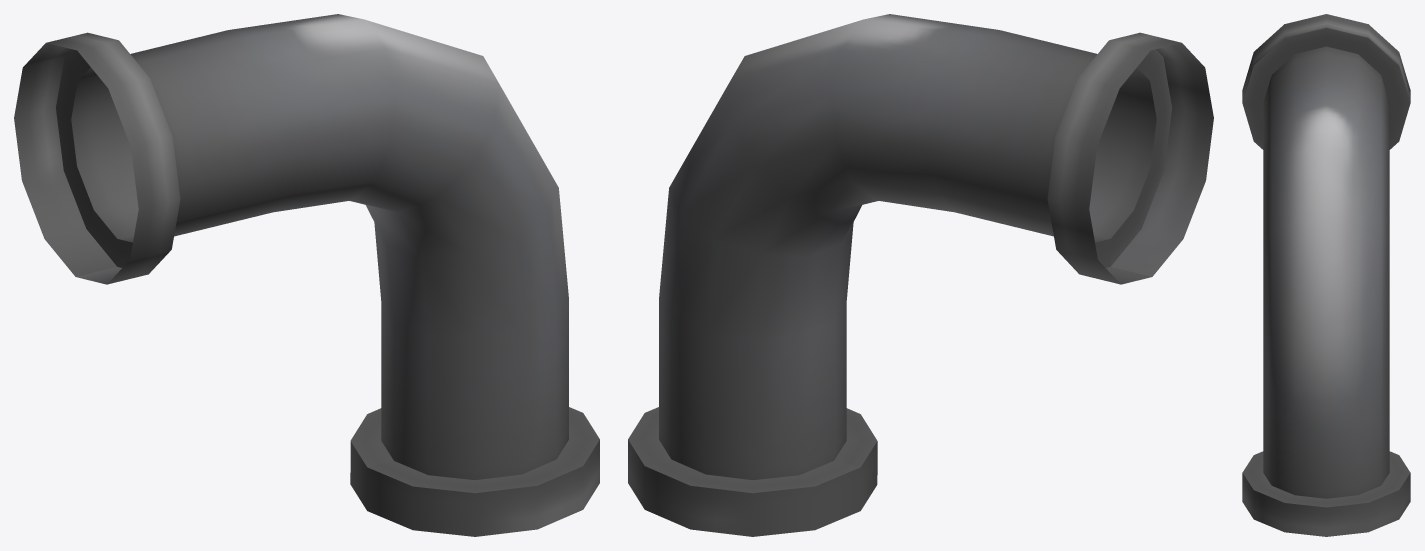
File: S1_mod_Pipe_001.fbx
3 views of the same model, side by side, from view 1: azimuth 30°, elevation 25°; view 2: azimuth 150°, elevation 25°; view 3: azimuth 270°, elevation 25° (orthographic). The views are drawn at different scales.
Parts seen in each view (by area): view 1: S1_mod_Pipe_001; view 2: S1_mod_Pipe_001; view 3: S1_mod_Pipe_001.
Part boxes in pixels (bbox=[...]): S1_mod_Pipe_001: bbox=[14, 14, 599, 536]; S1_mod_Pipe_001: bbox=[628, 14, 1213, 536]; S1_mod_Pipe_001: bbox=[1242, 14, 1410, 536].
Bounding box in the file's own units: 46.86 × 46.86 × 19.94.
